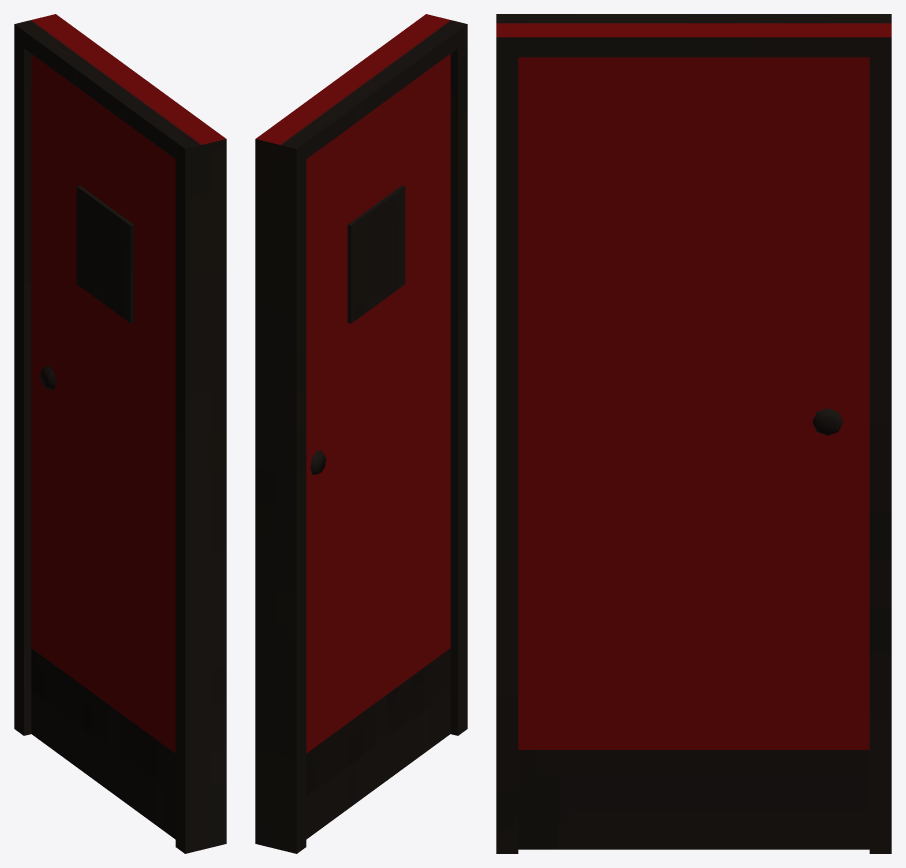
File: main door.fbx
The picture shows the model from 3 angles, left to right: view 1: azimuth 30°, elevation 25°; view 2: azimuth 150°, elevation 25°; view 3: azimuth 270°, elevation 25°; orthographic projection. The views are drawn at different scales.
Visible parts, largest first — view 1: SM_ToiletDoor; view 2: SM_ToiletDoor; view 3: SM_ToiletDoor.
Part boxes in pixels (bbox=[...]): SM_ToiletDoor: bbox=[14, 14, 226, 853]; SM_ToiletDoor: bbox=[255, 14, 467, 853]; SM_ToiletDoor: bbox=[496, 14, 891, 853].
Size of the model in its own units: 12.6 by 205 by 90.
1 material, 1 textured.
